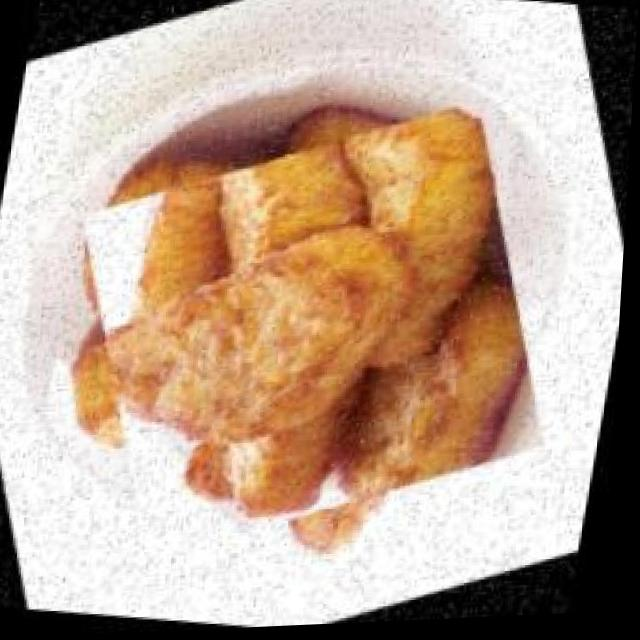triangle_hash_brown: (29, 49, 605, 618)
